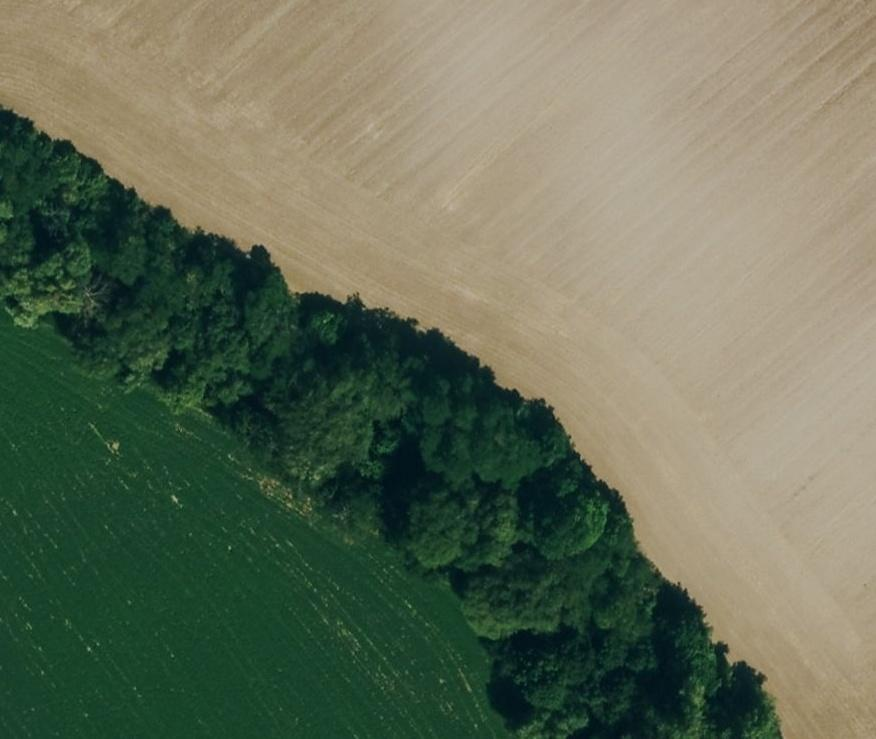field: (0, 2, 876, 737), (0, 313, 506, 737)
forest: (0, 110, 778, 737)
